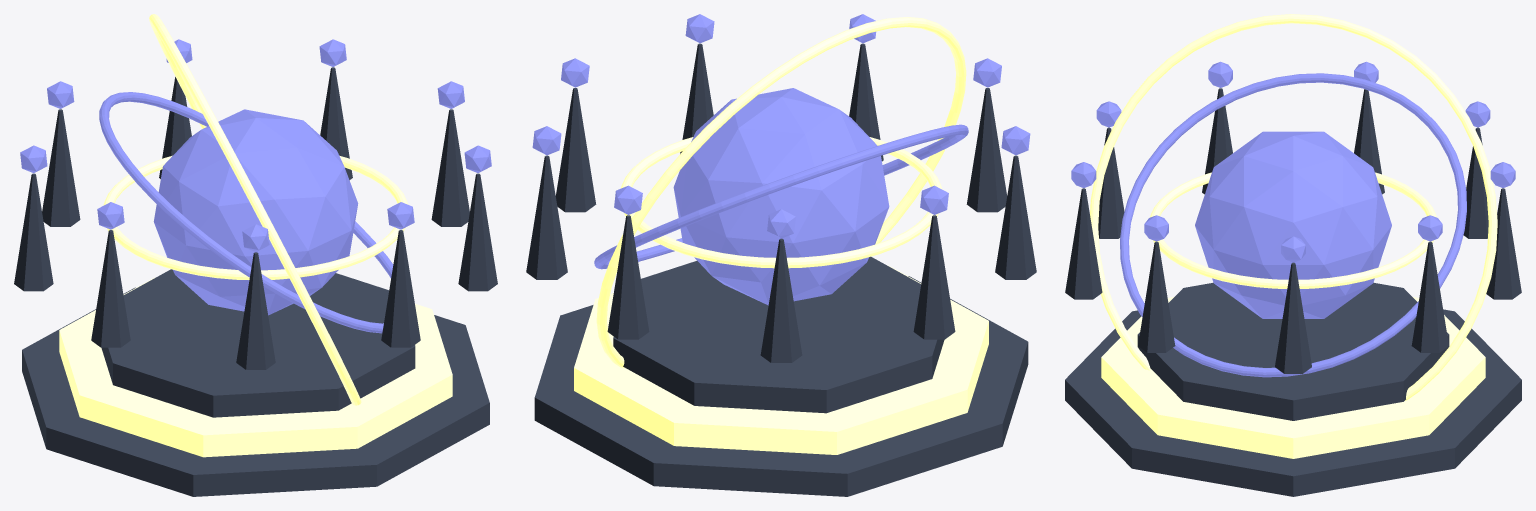
File: gpu-blender-v1.glb
3 views of the same model, side by side, from view 1: azimuth 30°, elevation 25°; view 2: azimuth 150°, elevation 25°; view 3: azimuth 270°, elevation 25° (orthographic). The views are drawn at different scales.
Visible parts, largest first — view 1: Cylinder.002, SovereignCore_printify-connector, Cylinder, Cylinder.001, Torus.001, Torus.002, Torus, Cone.004, Cone.008, Cone.005, Cone.007, Cone.006 (+12 smaller); view 2: Cylinder.002, SovereignCore_printify-connector, Cylinder, Cylinder.001, Torus.002, Torus.001, Torus, Cone.002, Cone.004, Cone, Cone.001, Cone.005 (+12 smaller); view 3: SovereignCore_printify-connector, Cylinder.002, Cylinder, Cylinder.001, Torus.002, Torus.001, Torus, Cone.007, Cone.001, Cone.008, Cone, Cone.002 (+10 smaller).
Part boxes in pixels (bbox=[...]): Cylinder.002: bbox=[101, 269, 415, 417]; SovereignCore_printify-connector: bbox=[153, 109, 358, 315]; Cylinder: bbox=[22, 287, 489, 496]; Cylinder.001: bbox=[59, 277, 452, 457]; Torus.001: bbox=[99, 92, 393, 333]; Torus.002: bbox=[149, 14, 361, 405]; Torus: bbox=[103, 155, 408, 279]; Cone.004: bbox=[14, 173, 53, 291]; Cone.008: bbox=[458, 173, 497, 291]; Cone.005: bbox=[91, 230, 130, 347]; Cone.007: bbox=[381, 230, 420, 347]; Cone.006: bbox=[236, 252, 275, 369]; Cylinder.002: bbox=[613, 256, 944, 413]; SovereignCore_printify-connector: bbox=[673, 88, 889, 305]; Cylinder: bbox=[534, 276, 1028, 496]; Cylinder.001: bbox=[574, 265, 988, 454]; Torus.002: bbox=[596, 17, 966, 367]; Torus.001: bbox=[594, 124, 968, 269]; Torus: bbox=[621, 137, 942, 268]; Cone.002: bbox=[607, 215, 649, 339]; Cone.004: bbox=[913, 215, 955, 339]; Cone: bbox=[555, 88, 596, 212]; Cone.001: bbox=[526, 155, 567, 279]; Cone.005: bbox=[995, 155, 1036, 279]; SovereignCore_printify-connector: bbox=[1195, 131, 1391, 318]; Cylinder.002: bbox=[1137, 282, 1449, 420]; Cylinder: bbox=[1065, 309, 1521, 496]; Cylinder.001: bbox=[1101, 296, 1485, 458]; Torus.002: bbox=[1090, 14, 1497, 400]; Torus.001: bbox=[1120, 73, 1466, 377]; Torus: bbox=[1150, 172, 1436, 288]; Cone.007: bbox=[1065, 188, 1102, 299]; Cone.001: bbox=[1411, 241, 1448, 352]; Cone.008: bbox=[1138, 241, 1175, 352]; Cone: bbox=[1275, 262, 1311, 373]; Cone.002: bbox=[1486, 188, 1521, 299].
Bounding box in the file's own units: 4.41 × 3.72 × 4.4.
